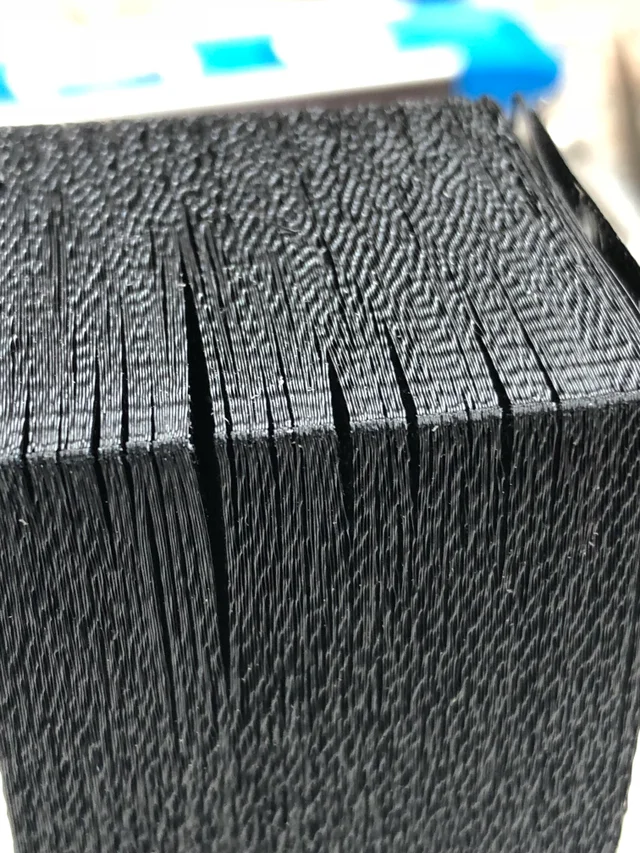Layer Shifting: (0, 101, 624, 841)
